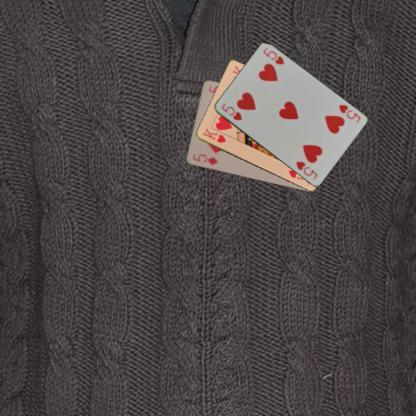5d: (190, 150, 218, 166)
5h: (336, 102, 362, 124), (219, 100, 244, 122)
Kh: (200, 126, 228, 144)
